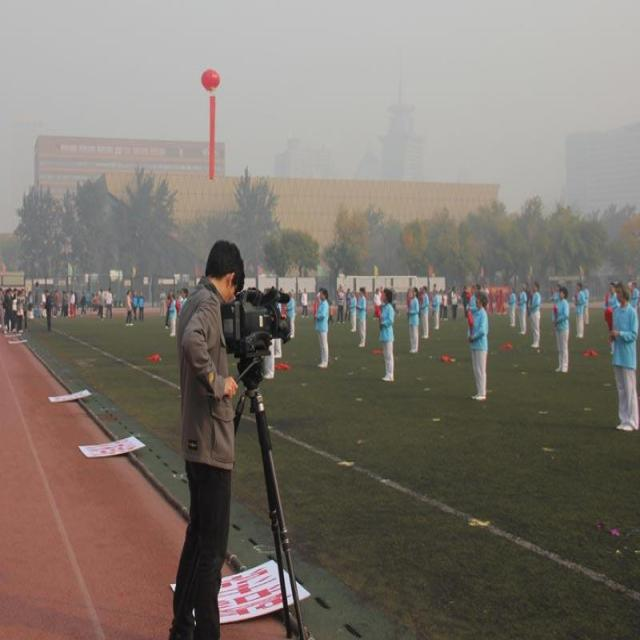non-fight: (158, 234, 280, 639), (601, 289, 639, 432), (458, 284, 498, 400), (369, 286, 404, 381), (546, 285, 580, 372), (307, 286, 338, 368), (522, 282, 548, 349), (404, 285, 426, 353), (1, 288, 16, 330)
